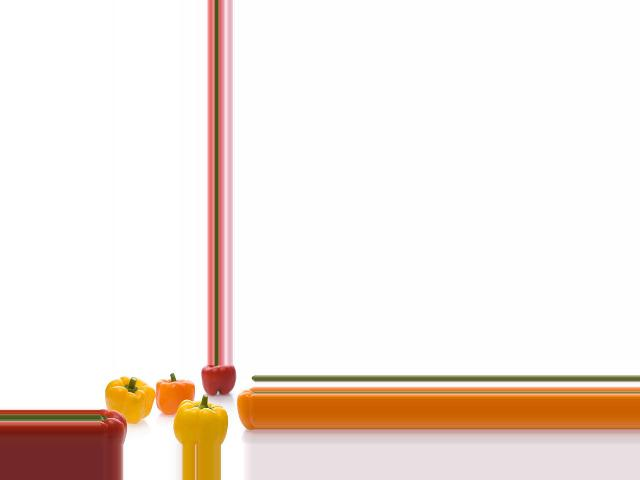bell_pepper: (234, 385, 255, 429)
